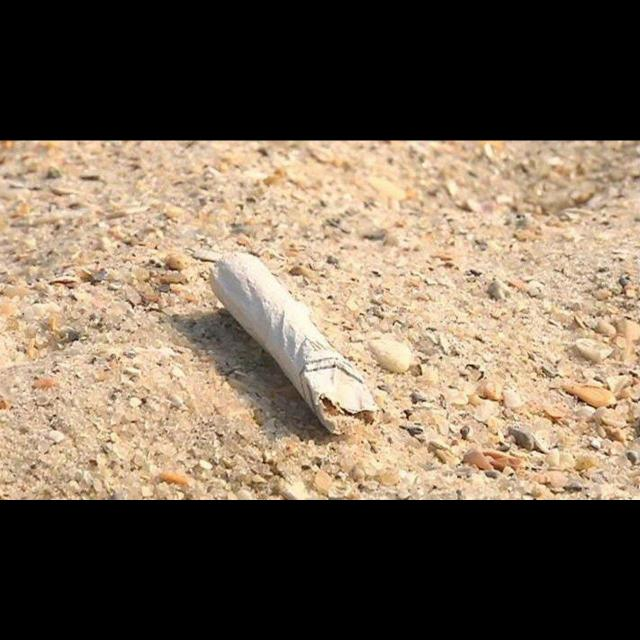cigarette: (211, 252, 379, 435)
